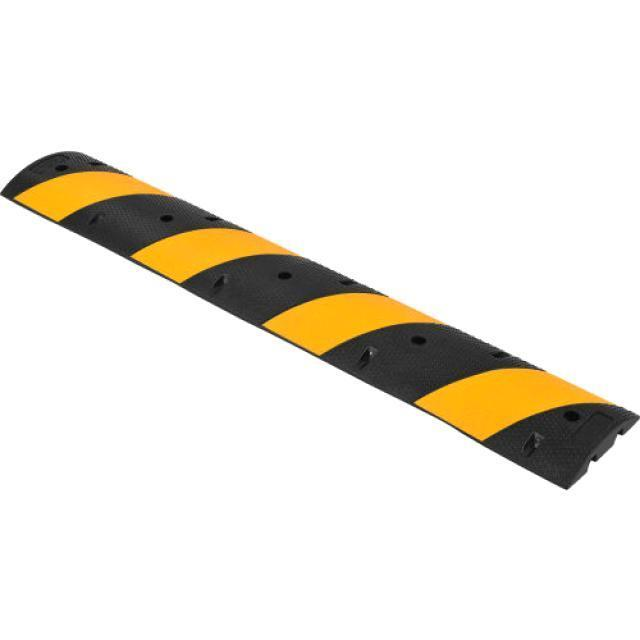Marked Bump: (13, 107, 617, 493)
